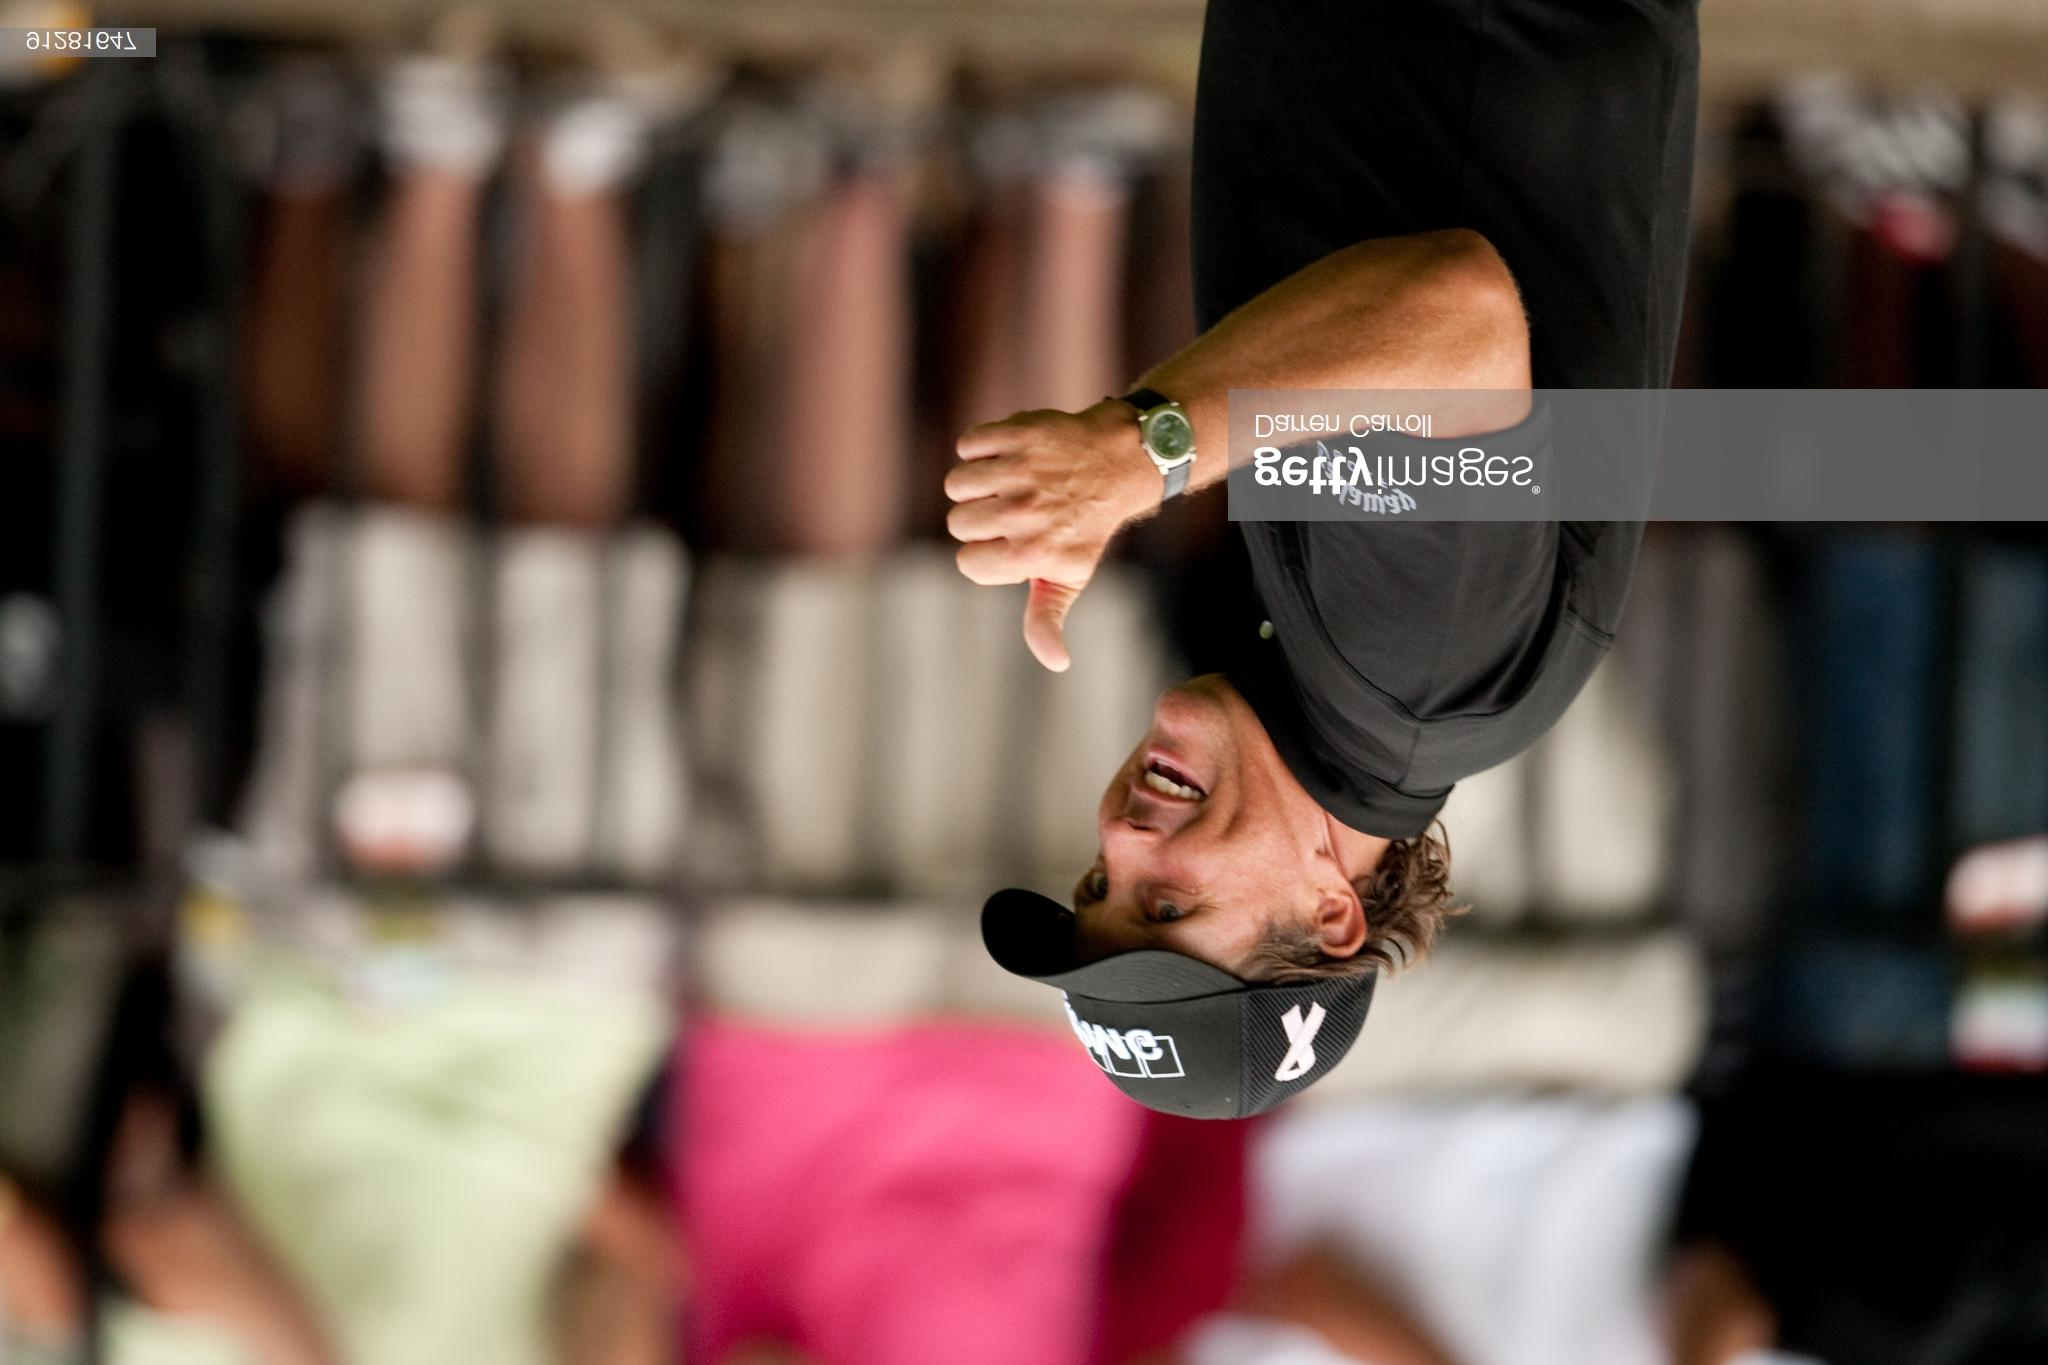thumbsdown: (943, 411, 1080, 673)
